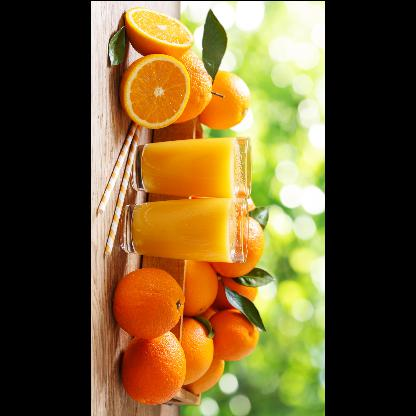orange juice: (130, 197, 238, 262), (140, 136, 240, 198)
